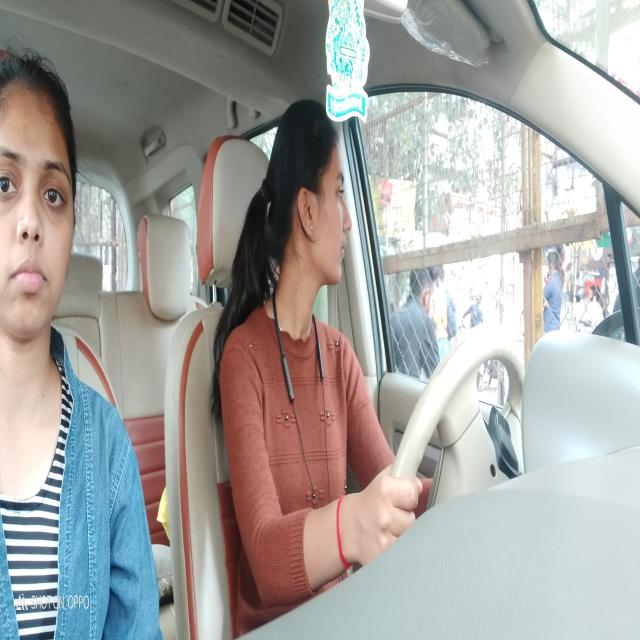LeftRight: (1, 61, 80, 360), (272, 92, 357, 310)
